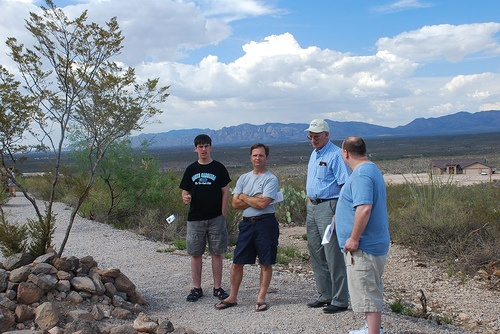head: (339, 134, 372, 175), (307, 115, 331, 153), (249, 142, 271, 173), (193, 133, 214, 162)
person: (328, 131, 392, 334), (212, 138, 281, 311), (177, 132, 232, 300), (301, 114, 346, 315)
